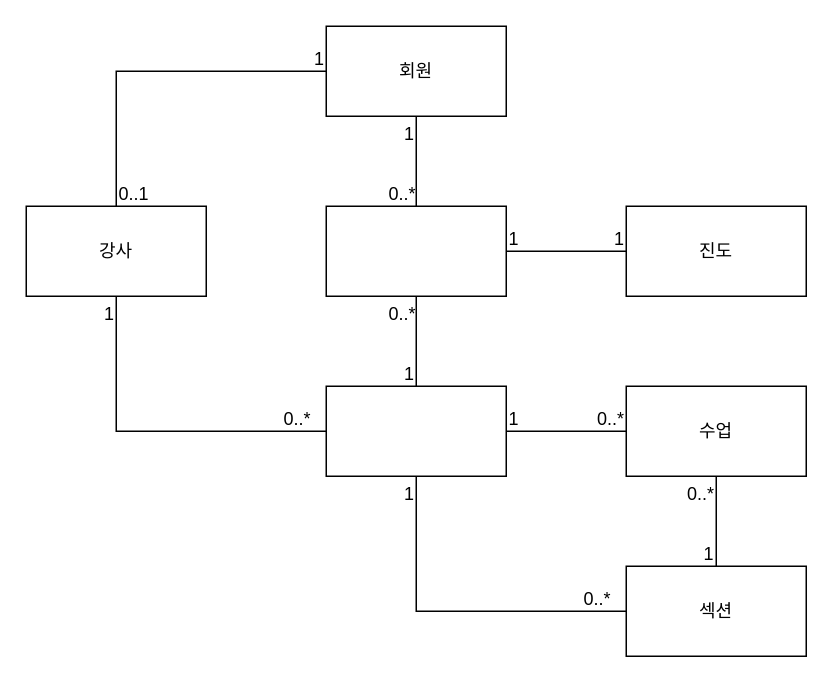
Image size: 833x683. Some labels were removed from this diagram. Here are the shapes that lost their labels. From the top down, the centre of each, then its label:
point 415,250: 수강
point 415,430: 강의
